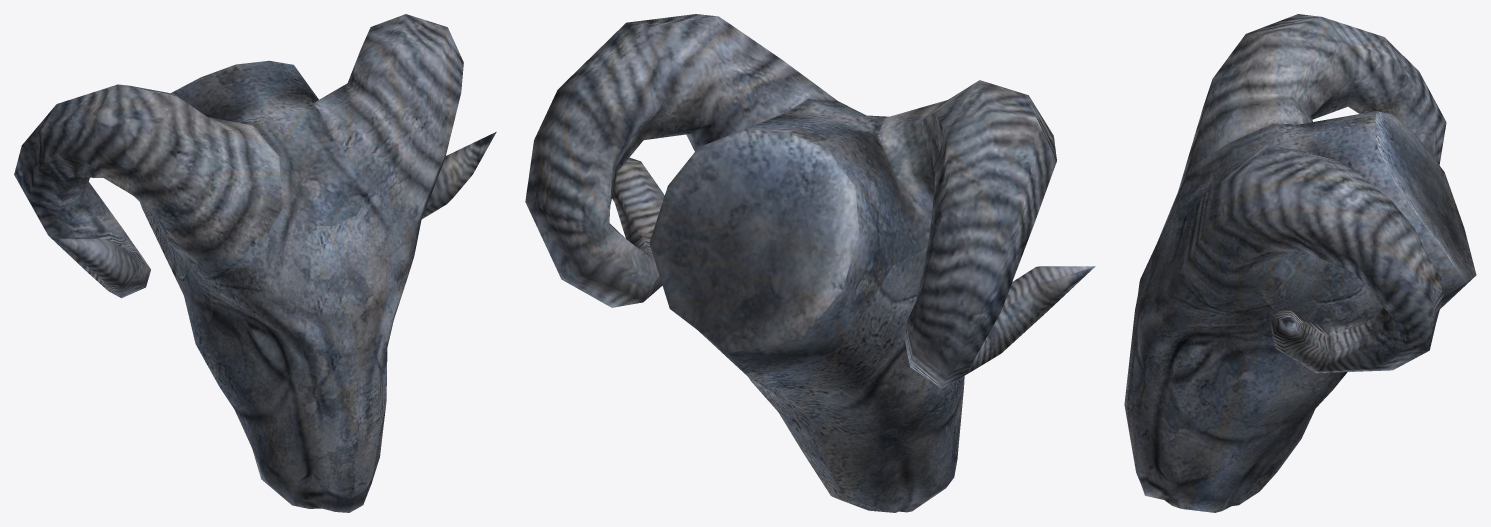
The model's file is GoatHead.FBX.
The picture shows the model from 3 angles, left to right: view 1: azimuth 30°, elevation 25°; view 2: azimuth 150°, elevation 25°; view 3: azimuth 270°, elevation 25°; orthographic projection. The views are drawn at different scales.
Parts seen in each view (by area): view 1: GoatHead; view 2: GoatHead; view 3: GoatHead.
Boxes of the visible parts, x1,y1,x2,y2 form: GoatHead: (14, 14, 496, 512); GoatHead: (525, 14, 1095, 512); GoatHead: (1124, 14, 1476, 512).
Size of the model in its own units: 14.01 by 12.5 by 9.59.
1 material, 1 textured.
